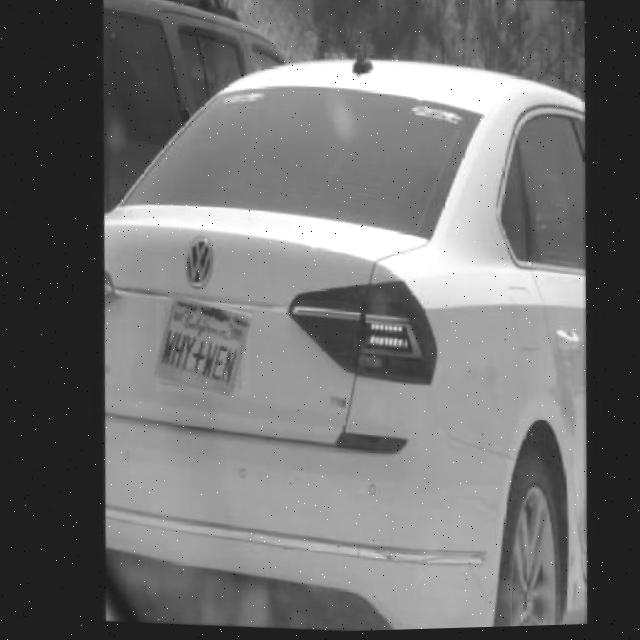LicensePlate: (144, 294, 250, 399)
